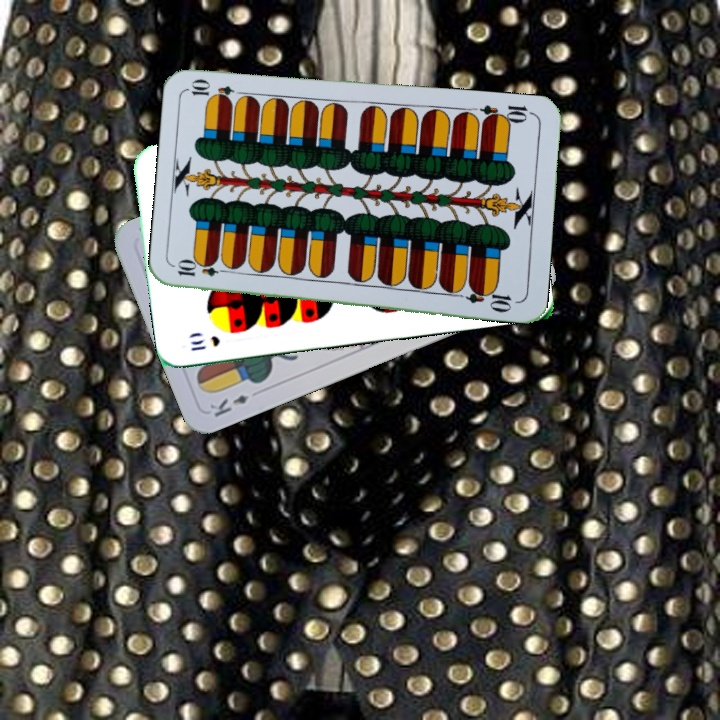E10: (477, 101, 536, 127), (173, 260, 232, 279)
EK: (206, 390, 252, 420)
S10: (186, 332, 223, 353)
